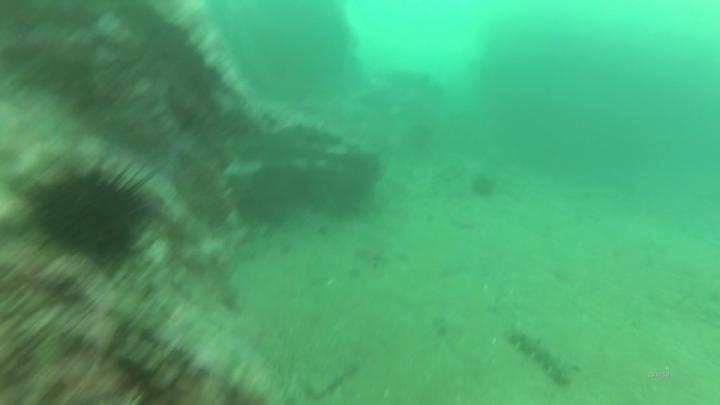echinus: (32, 166, 152, 266)
holothurian: (508, 322, 577, 392)
